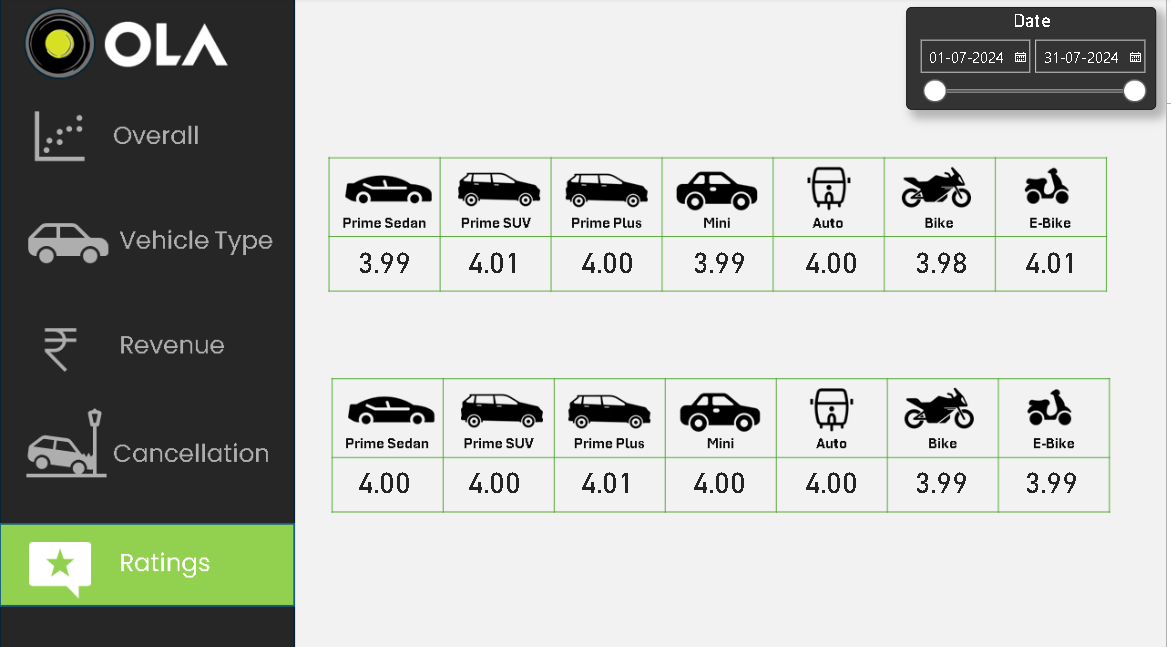

This screenshot's page, from the dashboard's own definition file:
{"tool":"powerbi","page":{"name":"Ratings","canvas":[1280,720],"ordinal":4},"visuals":[{"type":"actionButton","box":[0,108.6,323.3,86.9],"z":0},{"type":"actionButton","box":[0,337.8,323.3,86.9],"z":1000},{"type":"actionButton","box":[0,224.4,323.3,86.9],"z":2000},{"type":"actionButton","box":[0,456,323.3,86.9],"z":3000},{"type":"card","fields":{"Values":["Avg(July.Driver_Ratings)"]},"box":[370.5,267.6,104.3,43.9],"z":3001},{"type":"card","fields":{"Values":["Avg(July.Driver_Ratings)"]},"box":[491.3,267.6,104.3,43.9],"z":3002},{"type":"card","fields":{"Values":["Avg(July.Driver_Ratings)"]},"box":[614.8,267.6,104.3,43.9],"z":3003},{"type":"card","fields":{"Values":["Avg(July.Driver_Ratings)"]},"box":[738.3,267.6,104.3,43.9],"z":3004},{"type":"card","fields":{"Values":["Avg(July.Driver_Ratings)"]},"box":[860.4,267.6,104.3,43.9],"z":3005},{"type":"card","fields":{"Values":["Avg(July.Driver_Ratings)"]},"box":[981.1,267.6,104.3,43.9],"z":3006},{"type":"card","fields":{"Values":["Avg(July.Driver_Ratings)"]},"box":[1101.9,267.6,104.3,43.9],"z":3007},{"type":"card","fields":{"Values":["Avg(July.Customer_Rating)"]},"box":[370.5,509.1,104.3,43.9],"z":3008},{"type":"card","fields":{"Values":["Avg(July.Customer_Rating)"]},"box":[491.3,509.1,104.3,43.9],"z":3009},{"type":"card","fields":{"Values":["Avg(July.Customer_Rating)"]},"box":[614.8,509.1,104.3,43.9],"z":3010},{"type":"card","fields":{"Values":["Avg(July.Customer_Rating)"]},"box":[738.3,509.1,104.3,43.9],"z":3011},{"type":"card","fields":{"Values":["Avg(July.Customer_Rating)"]},"box":[860.4,509.1,104.3,43.9],"z":3012},{"type":"card","fields":{"Values":["Avg(July.Customer_Rating)"]},"box":[981.1,509.1,104.3,43.9],"z":3013},{"type":"card","fields":{"Values":["Avg(July.Customer_Rating)"]},"box":[1101.9,509.1,104.3,43.9],"z":3014},{"type":"slicer","title":"Date","fields":{"Values":["July.Date"]},"box":[994.9,11,274.4,112.5],"z":3015}]}

Visuals, with their boxes on the page's 1280x720 design canvas (x1, y1, x2, y2). These are canvas units, not pixel positions in the 1171x647 screenshot, which may show the page scaled, cropped or inside an application window:
actionButton: pyautogui.locateOnScreen(0, 109, 323, 196)
actionButton: pyautogui.locateOnScreen(0, 338, 323, 425)
actionButton: pyautogui.locateOnScreen(0, 224, 323, 311)
actionButton: pyautogui.locateOnScreen(0, 456, 323, 543)
card - Avg(July.Driver_Ratings): pyautogui.locateOnScreen(370, 268, 475, 312)
card - Avg(July.Driver_Ratings): pyautogui.locateOnScreen(491, 268, 596, 312)
card - Avg(July.Driver_Ratings): pyautogui.locateOnScreen(615, 268, 719, 312)
card - Avg(July.Driver_Ratings): pyautogui.locateOnScreen(738, 268, 843, 312)
card - Avg(July.Driver_Ratings): pyautogui.locateOnScreen(860, 268, 965, 312)
card - Avg(July.Driver_Ratings): pyautogui.locateOnScreen(981, 268, 1085, 312)
card - Avg(July.Driver_Ratings): pyautogui.locateOnScreen(1102, 268, 1206, 312)
card - Avg(July.Customer_Rating): pyautogui.locateOnScreen(370, 509, 475, 553)
card - Avg(July.Customer_Rating): pyautogui.locateOnScreen(491, 509, 596, 553)
card - Avg(July.Customer_Rating): pyautogui.locateOnScreen(615, 509, 719, 553)
card - Avg(July.Customer_Rating): pyautogui.locateOnScreen(738, 509, 843, 553)
card - Avg(July.Customer_Rating): pyautogui.locateOnScreen(860, 509, 965, 553)
card - Avg(July.Customer_Rating): pyautogui.locateOnScreen(981, 509, 1085, 553)
card - Avg(July.Customer_Rating): pyautogui.locateOnScreen(1102, 509, 1206, 553)
"Date" slicer: pyautogui.locateOnScreen(995, 11, 1269, 124)
